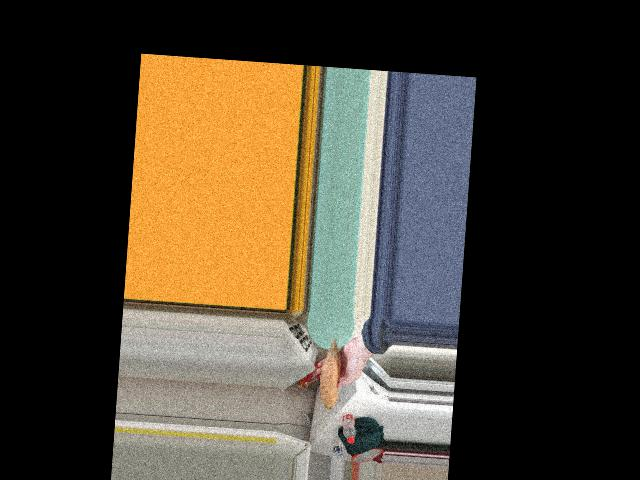sweet_potato: (321, 352, 346, 401)
